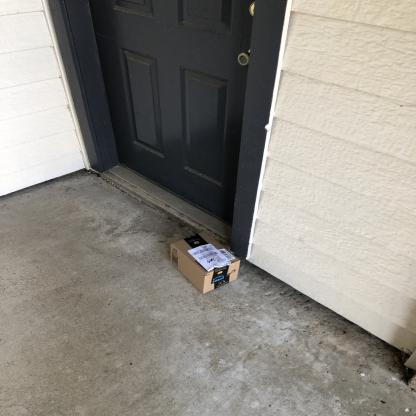package: (168, 230, 244, 296)
